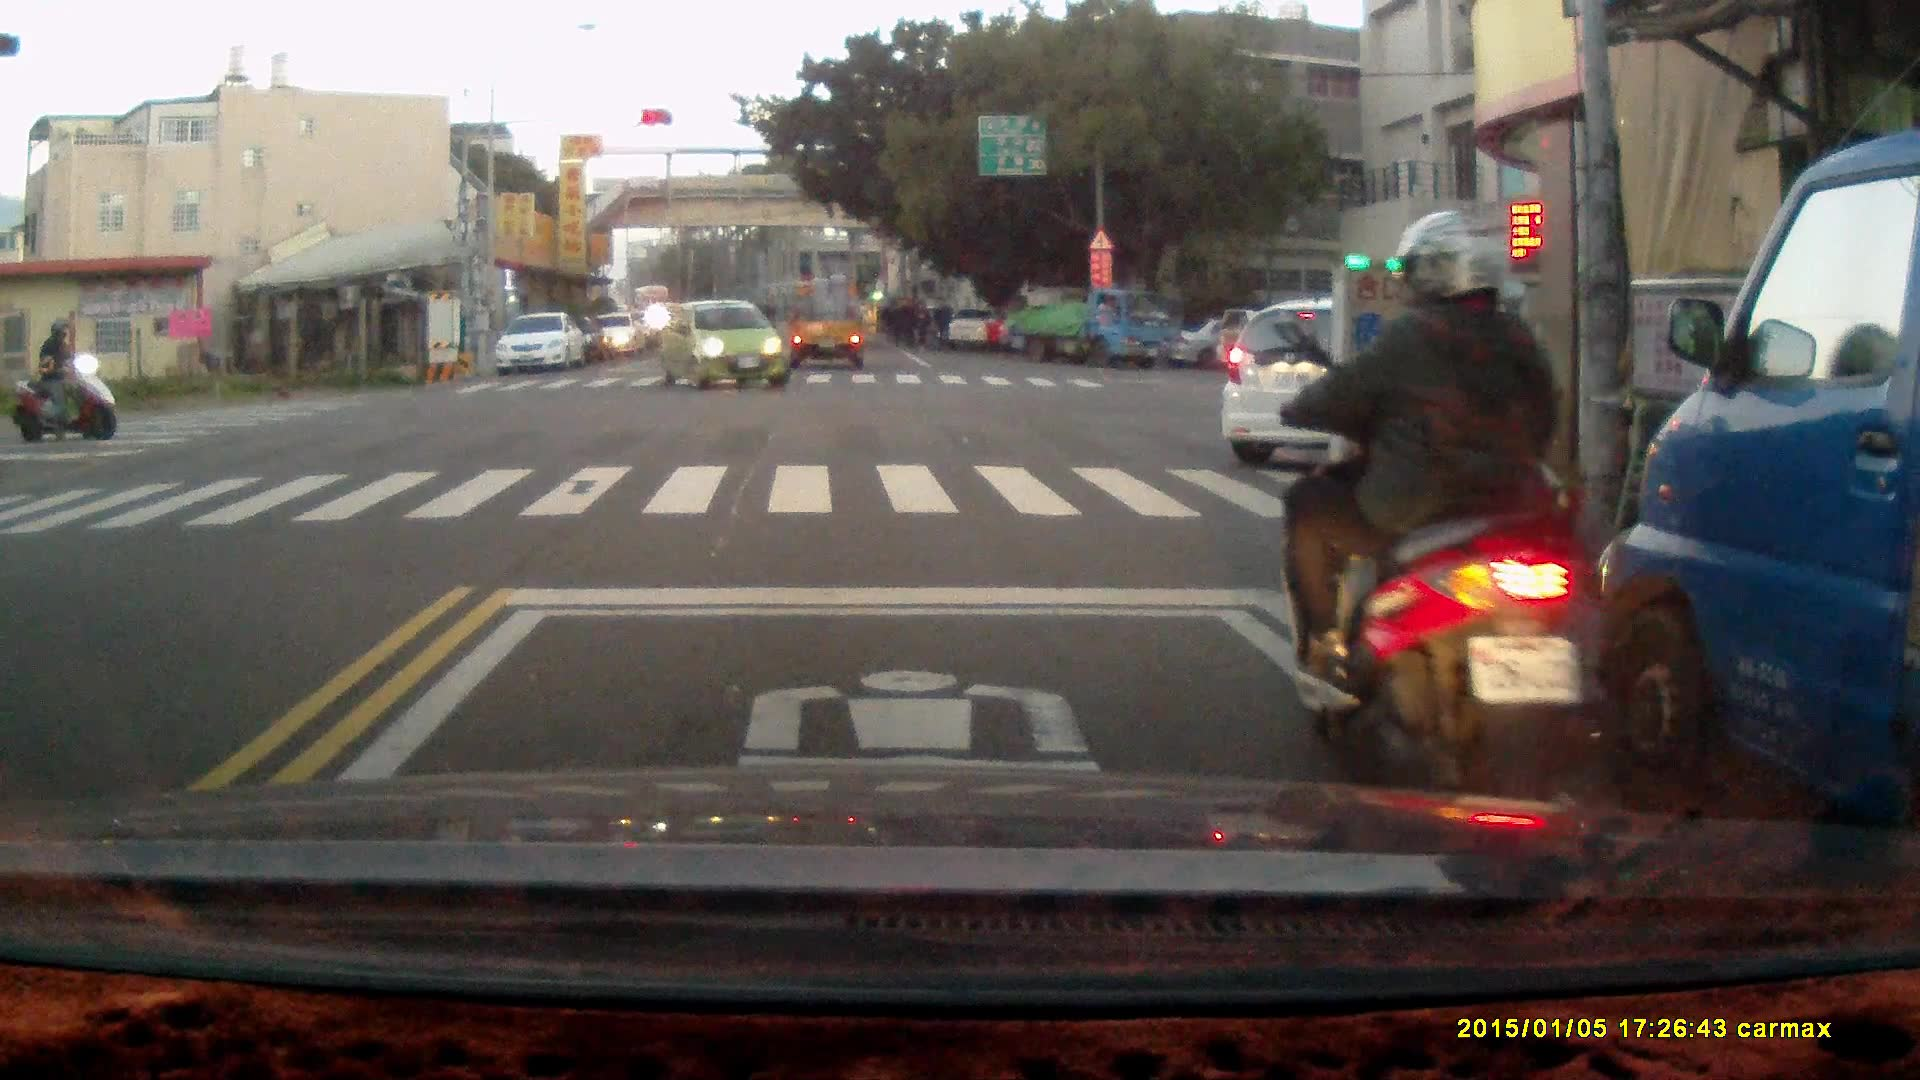rider: (1271, 203, 1613, 818), (10, 317, 119, 440)
vehicle: (1600, 132, 1920, 920), (1212, 294, 1524, 465), (1002, 284, 1176, 367), (665, 296, 788, 394), (784, 268, 868, 374), (497, 313, 587, 377), (592, 311, 642, 360)
